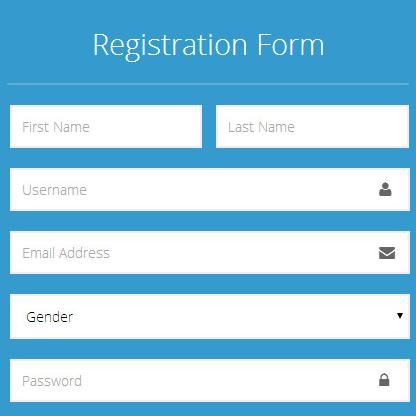field: (8, 293, 413, 341), (7, 166, 413, 213), (7, 229, 412, 276), (8, 358, 412, 403), (215, 104, 412, 149), (9, 104, 203, 149)
